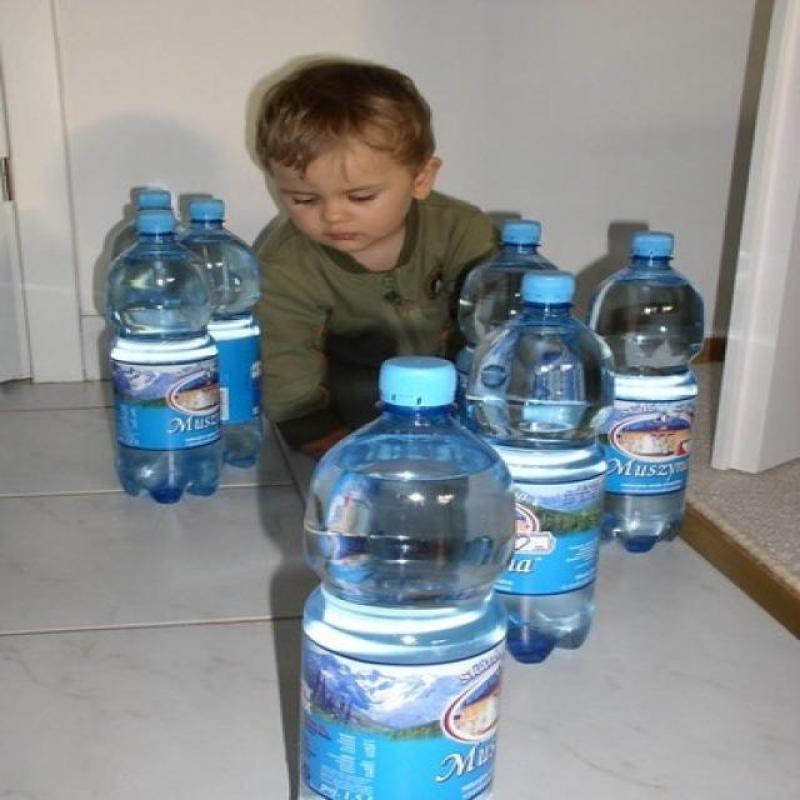botella: (299, 355, 515, 800), (466, 271, 615, 664), (586, 233, 704, 554), (105, 209, 219, 505), (180, 200, 266, 469), (458, 220, 558, 428), (112, 191, 178, 259)
